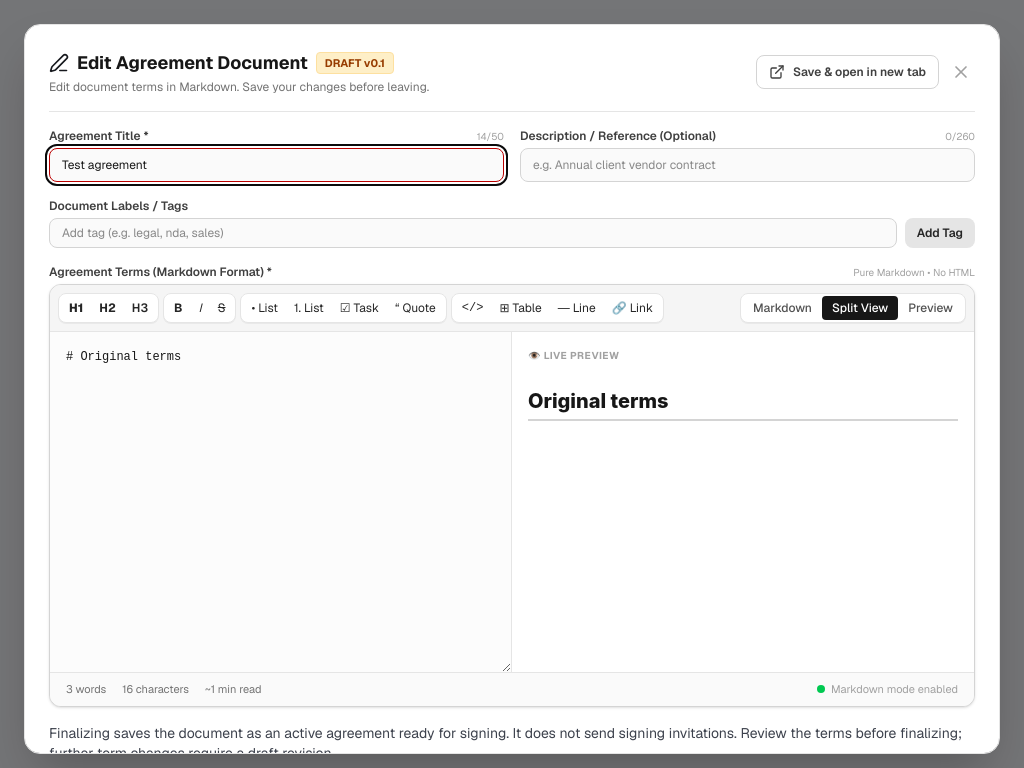
Test case: Agreement editor creation and full-page handoff › retains edits and closes the blank tab if saving fails
Click the button "Save & open in new tab".
click(847, 72)  # box x1=756 y1=55 x2=939 y2=89
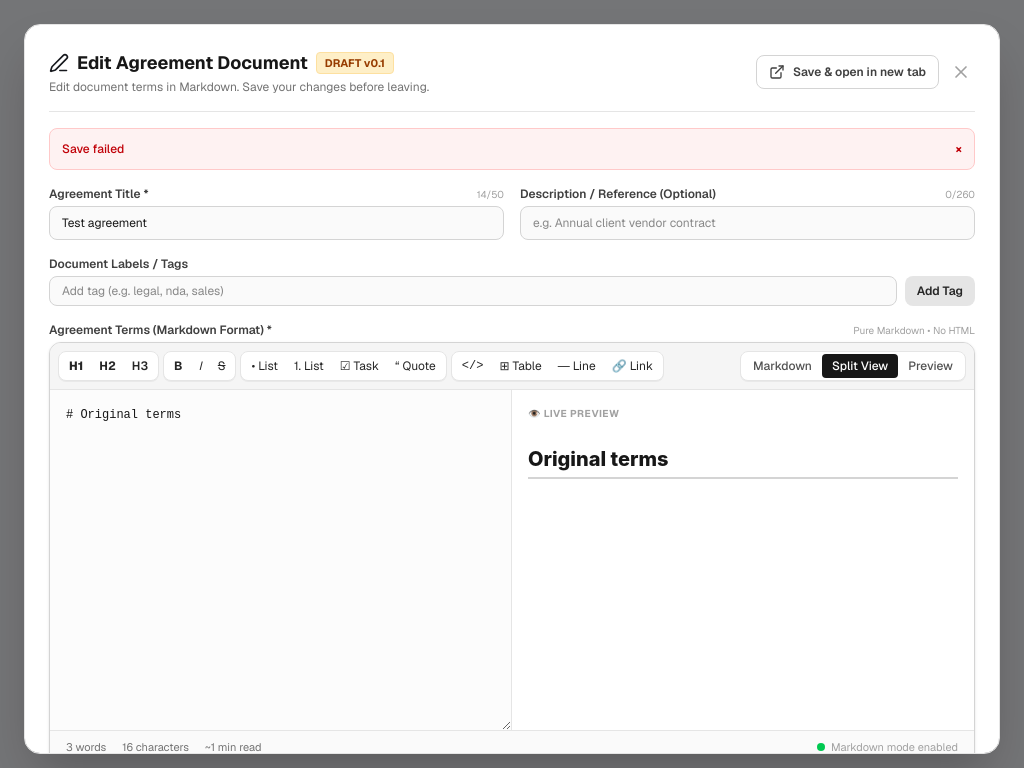
Expected: the text box named "Markdown Editor" holds "# Original terms", x1=50 y1=390 x2=511 y2=730
Now the message shows "Save failed", box x1=62 y1=141 x2=124 y2=157
